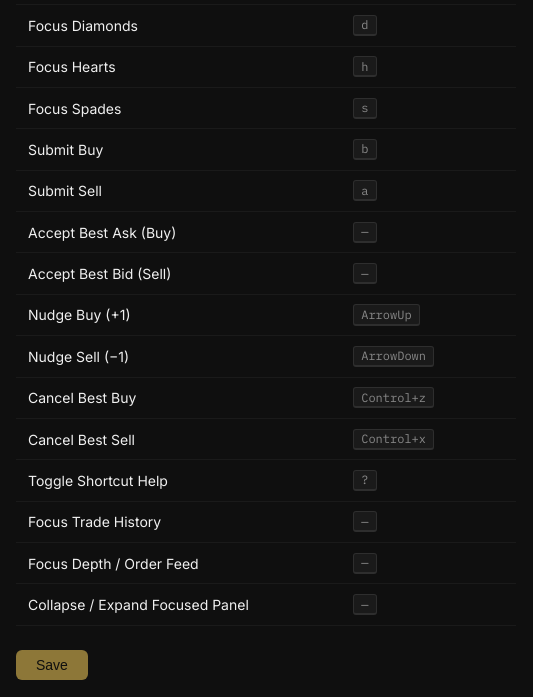
Test case: KeybindSettings › shows error message on failed save
The image size is (533, 697).
(page scrolled)
Click the button "Save".
click(52, 665)  # box [16,650,88,680]
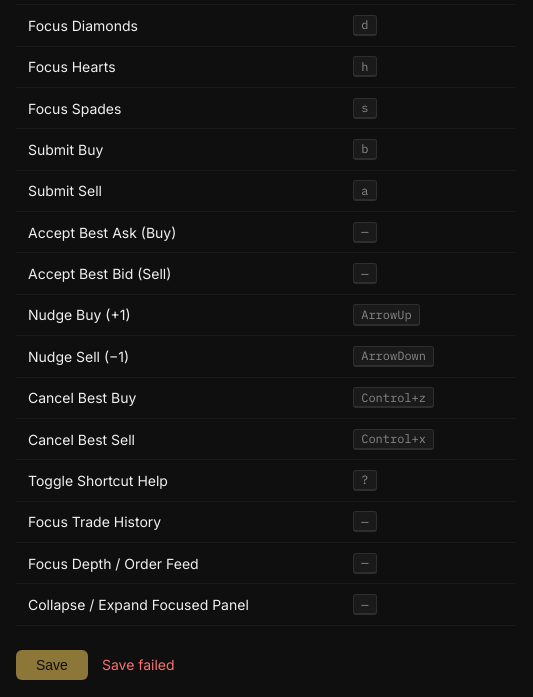
expect the text "Save failed" is shown: met, box [102,656,175,674]
